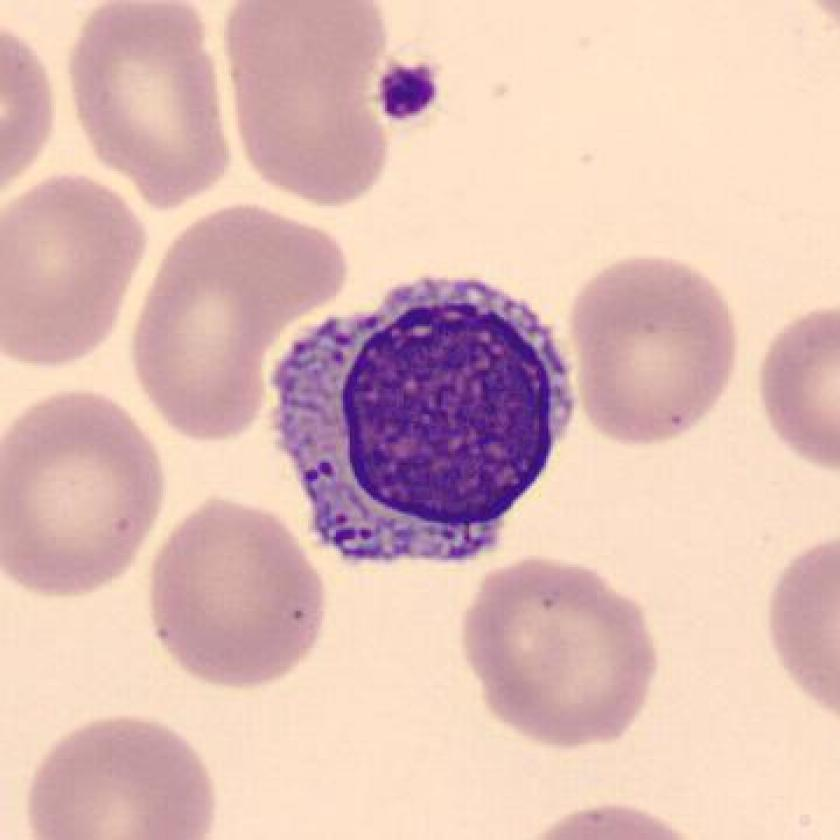lymphocyte: (253, 255, 594, 582)
platelets: (369, 54, 447, 129)
